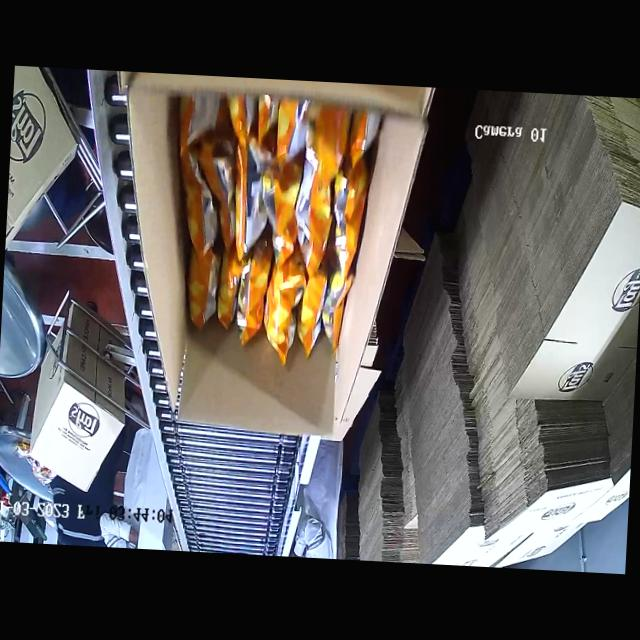cheese: (181, 109, 382, 327)
